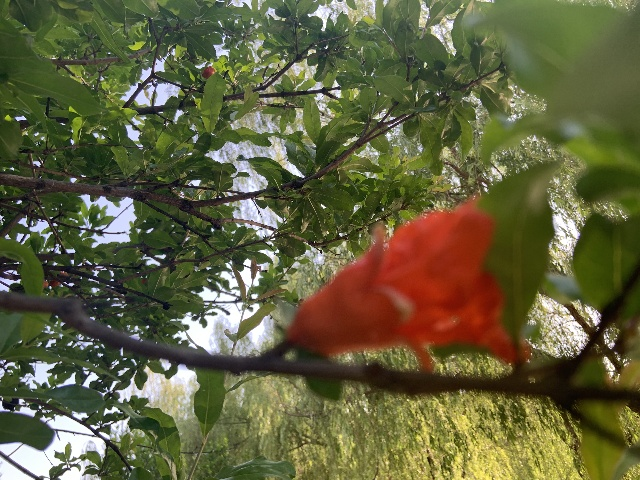bud: (202, 66, 215, 78)
flower: (287, 196, 530, 376)
